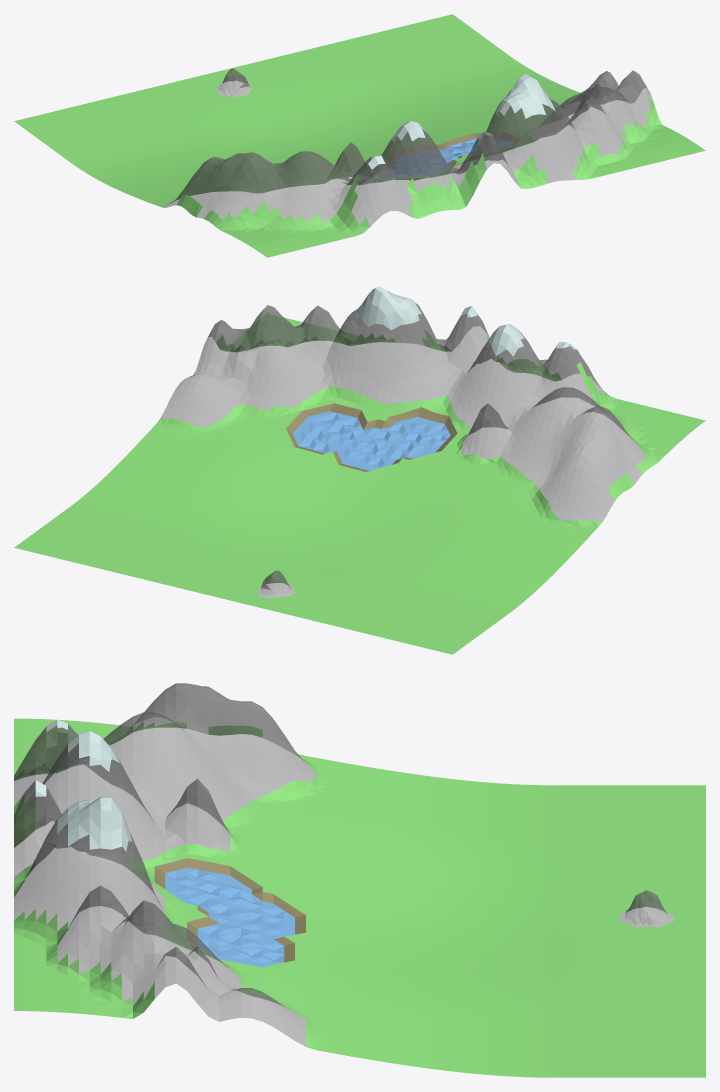
Rendered from newterrain.fbx.
The picture shows the model from 3 angles, top to bottom: view 1: azimuth 30°, elevation 25°; view 2: azimuth 150°, elevation 25°; view 3: azimuth 270°, elevation 25°; orthographic projection. The views are drawn at different scales.
Parts seen in each view (by area): view 1: Plane; view 2: Plane; view 3: Plane.
Part boxes in pixels (left/top/right/bottom): Plane: left=14, top=14, right=705, bottom=257; Plane: left=14, top=286, right=705, bottom=654; Plane: left=14, top=683, right=705, bottom=1077.
Size of the model in its own units: 200 by 59.53 by 200.
